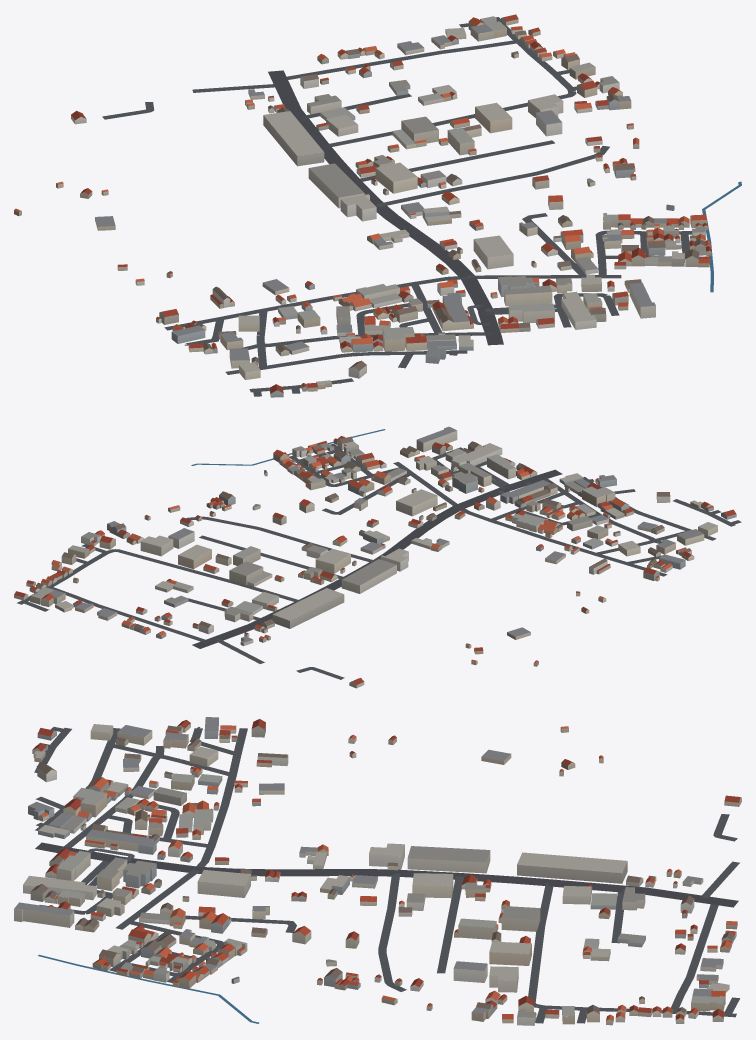
The picture shows the model from 3 angles, top to bottom: view 1: azimuth 30°, elevation 25°; view 2: azimuth 150°, elevation 25°; view 3: azimuth 270°, elevation 25°; orthographic projection. The views are drawn at different scales.
Parts seen in each view (by area): view 1: buildings_roofs, buildings_walls, roads; view 2: buildings_walls, buildings_roofs, roads; view 3: buildings_roofs, buildings_walls, roads, water.
Part boxes in pixels (bbox=[...]): buildings_roofs: bbox=[14, 14, 711, 393]; buildings_walls: bbox=[14, 17, 711, 397]; roads: bbox=[102, 17, 701, 396]; buildings_walls: bbox=[14, 428, 736, 688]; buildings_roofs: bbox=[14, 426, 736, 685]; roads: bbox=[17, 443, 741, 679]; buildings_roofs: bbox=[14, 717, 740, 1020]; buildings_walls: bbox=[14, 718, 741, 1025]; roads: bbox=[34, 727, 739, 1023]; water: bbox=[38, 954, 259, 1023].
Bounding box in the file's own units: 510 × 9.62 × 521.
